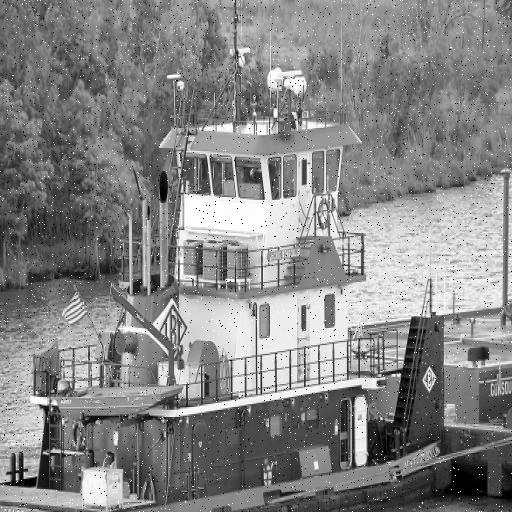tugboat: (1, 42, 459, 512)
